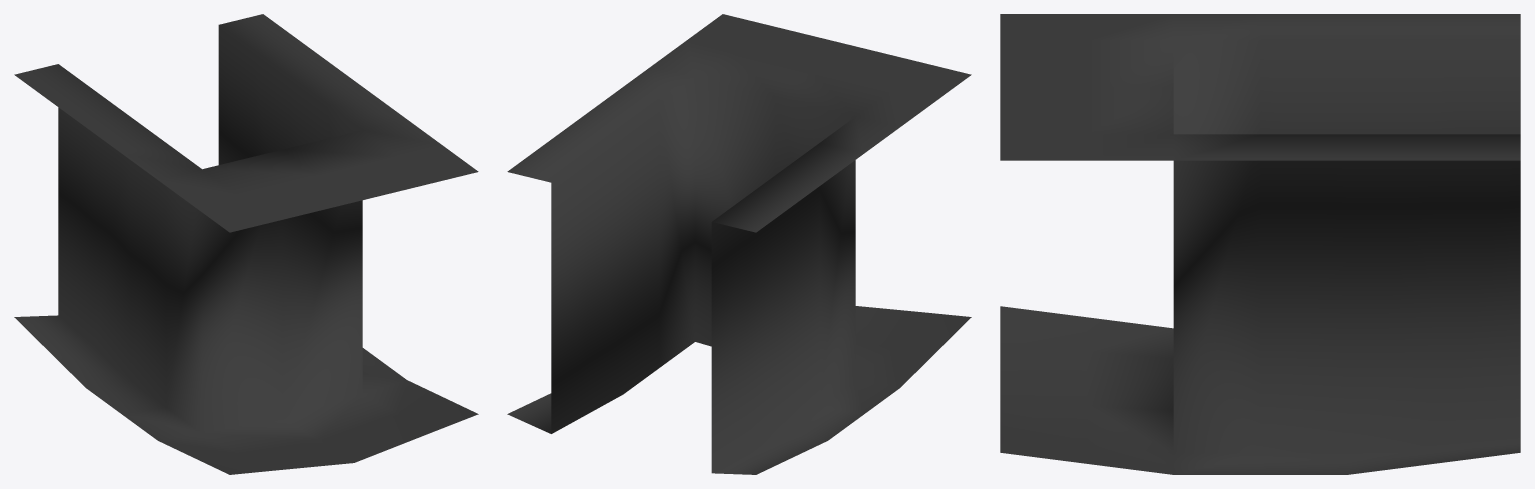
File: a-door.fbx
3 views of the same model, side by side, from view 1: azimuth 30°, elevation 25°; view 2: azimuth 150°, elevation 25°; view 3: azimuth 270°, elevation 25° (orthographic). The views are drawn at different scales.
Parts seen in each view (by area): view 1: wall1_001; view 2: wall1_001; view 3: wall1_001.
Part boxes in pixels (x1,y1,x2,y2): wall1_001: (14, 14, 478, 474); wall1_001: (507, 14, 971, 474); wall1_001: (1000, 14, 1520, 474).
Size of the model in its own units: 2 by 2.06 by 3.
